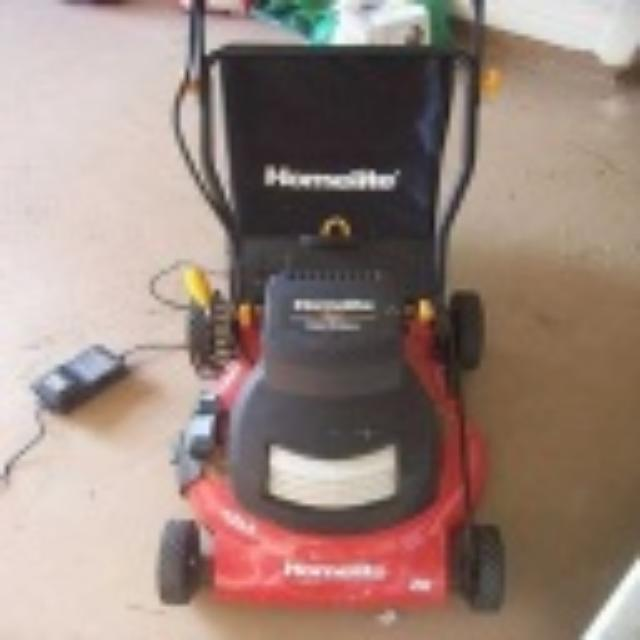Rotary-Mower: (136, 18, 528, 634)
